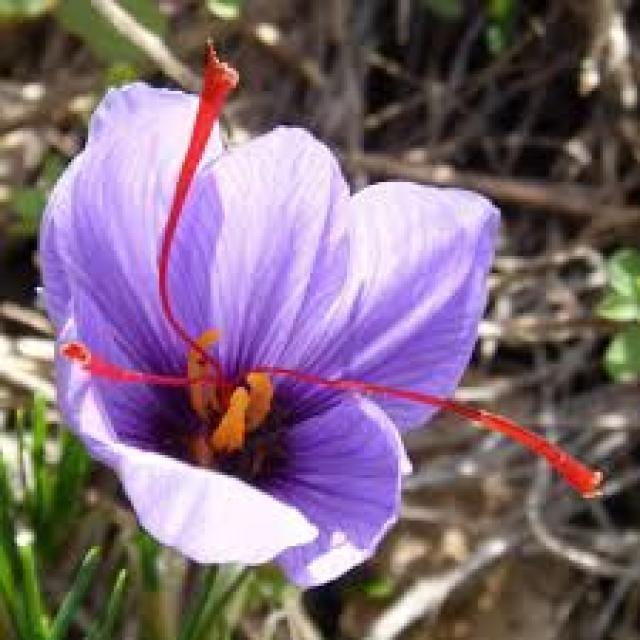Flower: (34, 49, 494, 576)
stigma: (268, 363, 606, 495), (152, 55, 243, 372), (60, 338, 244, 392)
